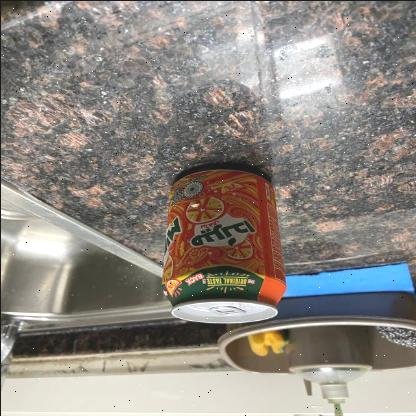Can: (158, 168, 286, 322)
